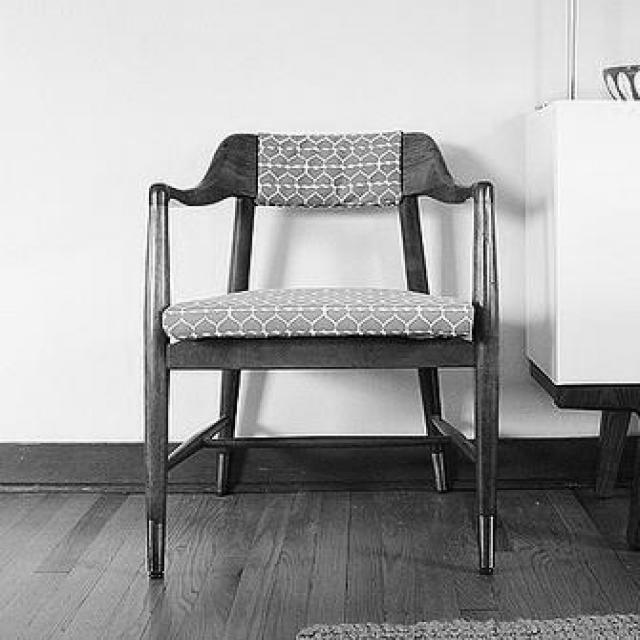chair: (142, 130, 504, 576)
